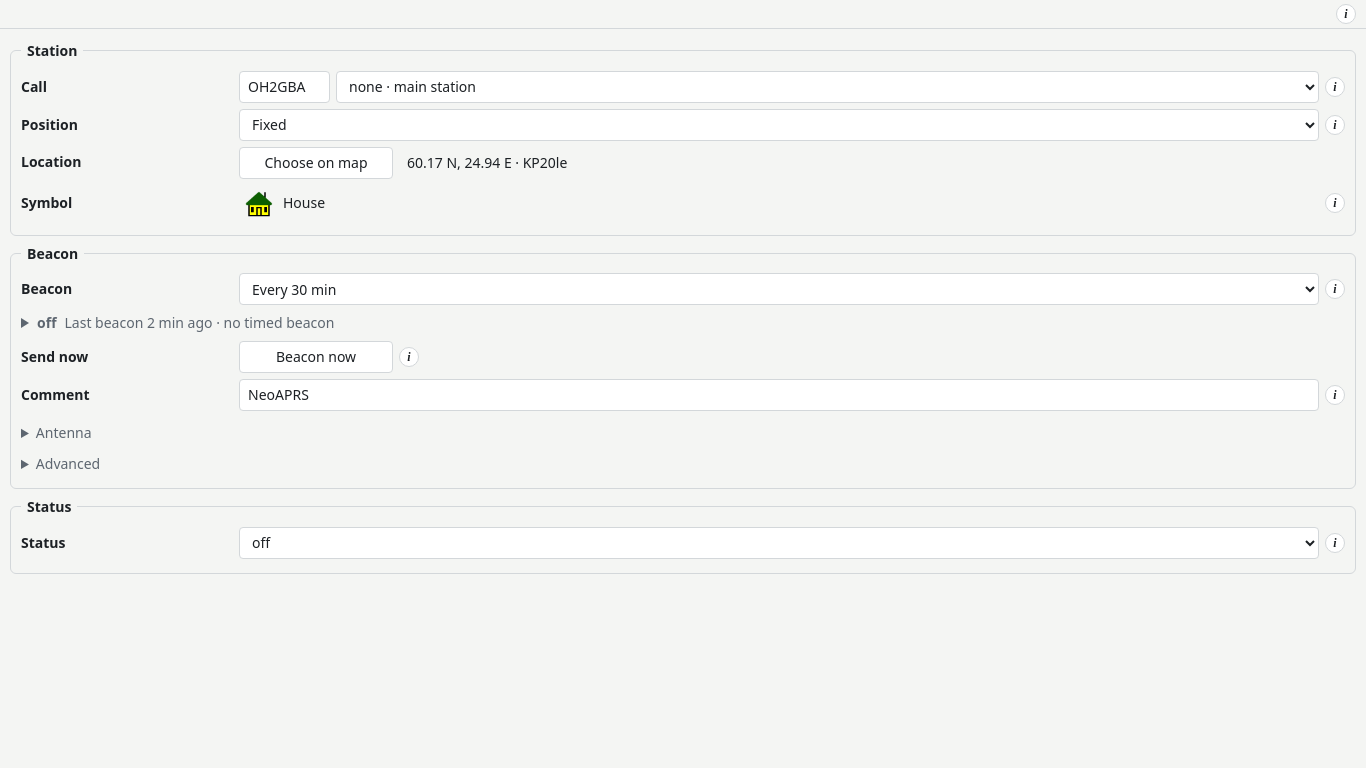
Test: BeaconPane › the beacon status of a fixed station, at the top of the tab, with Beacon now › asks twice, then passes the click on
The image size is (1366, 768).
Click the button with id "beacon-now" at (316, 357), box [239, 341, 393, 373]
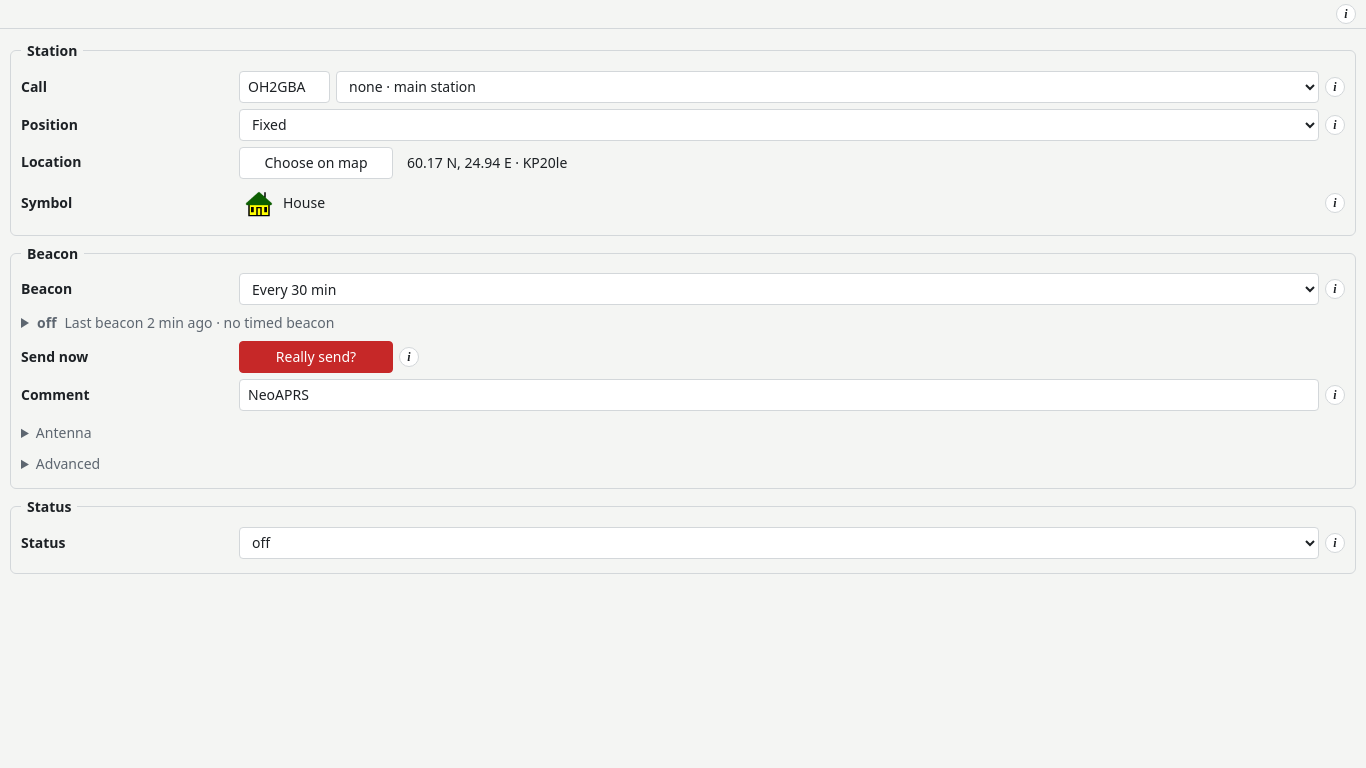
Expected: the button with id "beacon-now" reads "Really send?"
Click the button with id "beacon-now" at (316, 357), box [239, 341, 393, 373]
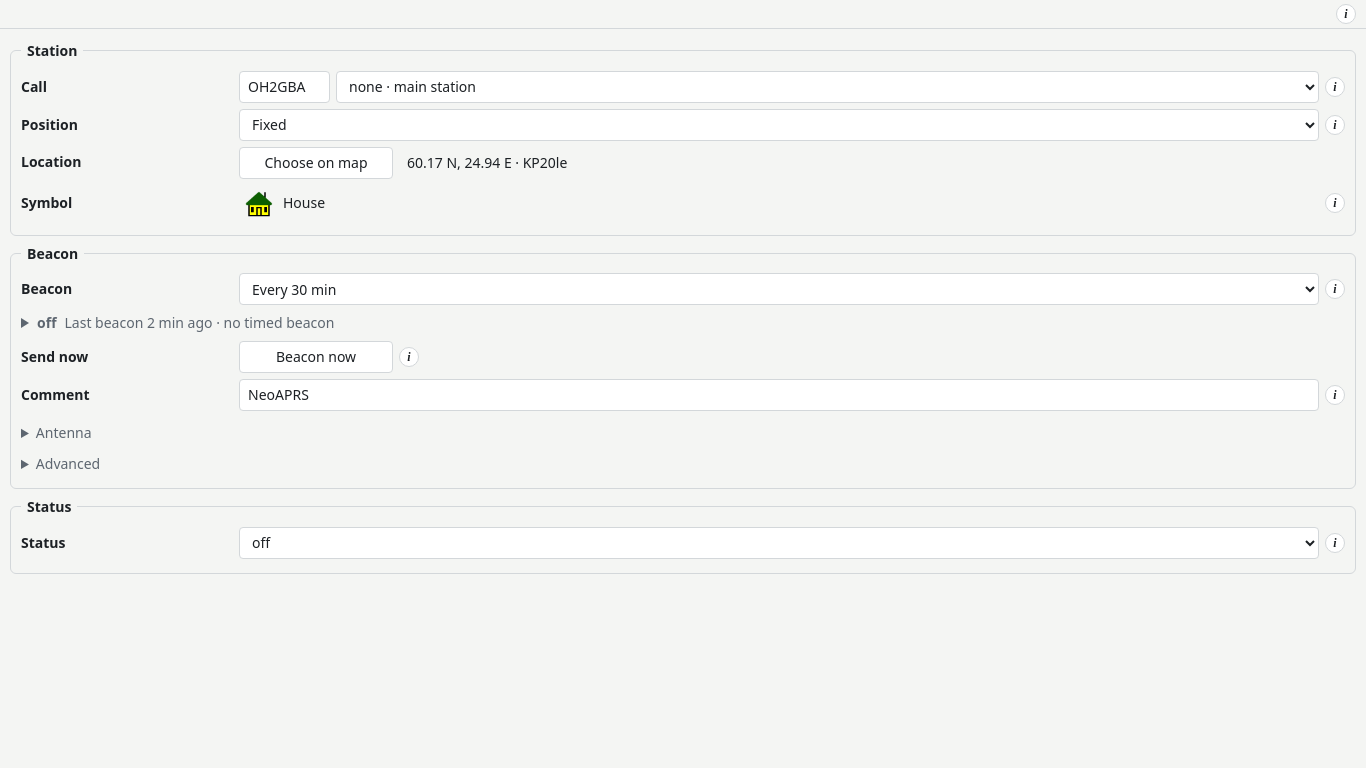
Expected: the button with id "beacon-now" reads "Beacon now", [239, 341, 393, 373]
